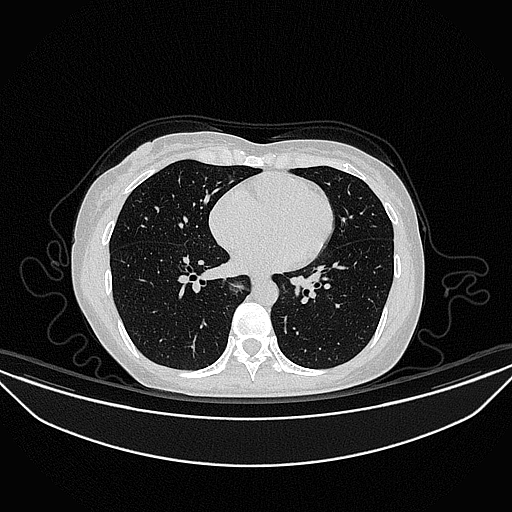nodule: (228, 280, 245, 293)
